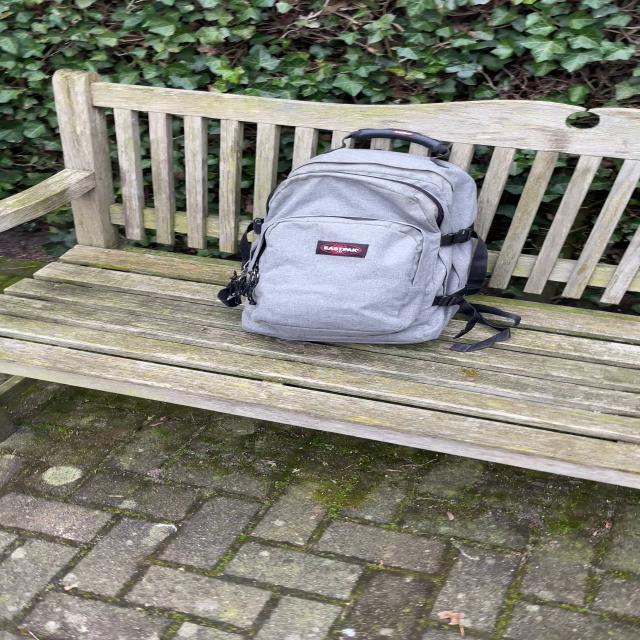backpack: (221, 123, 494, 351)
